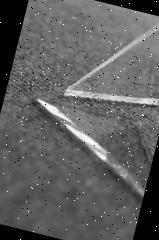glass: (17, 0, 159, 197)
